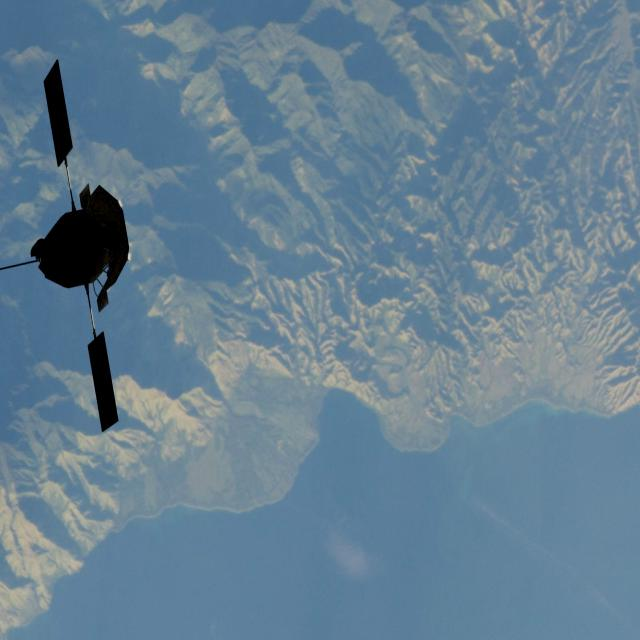satellite: (0, 65, 129, 436)
